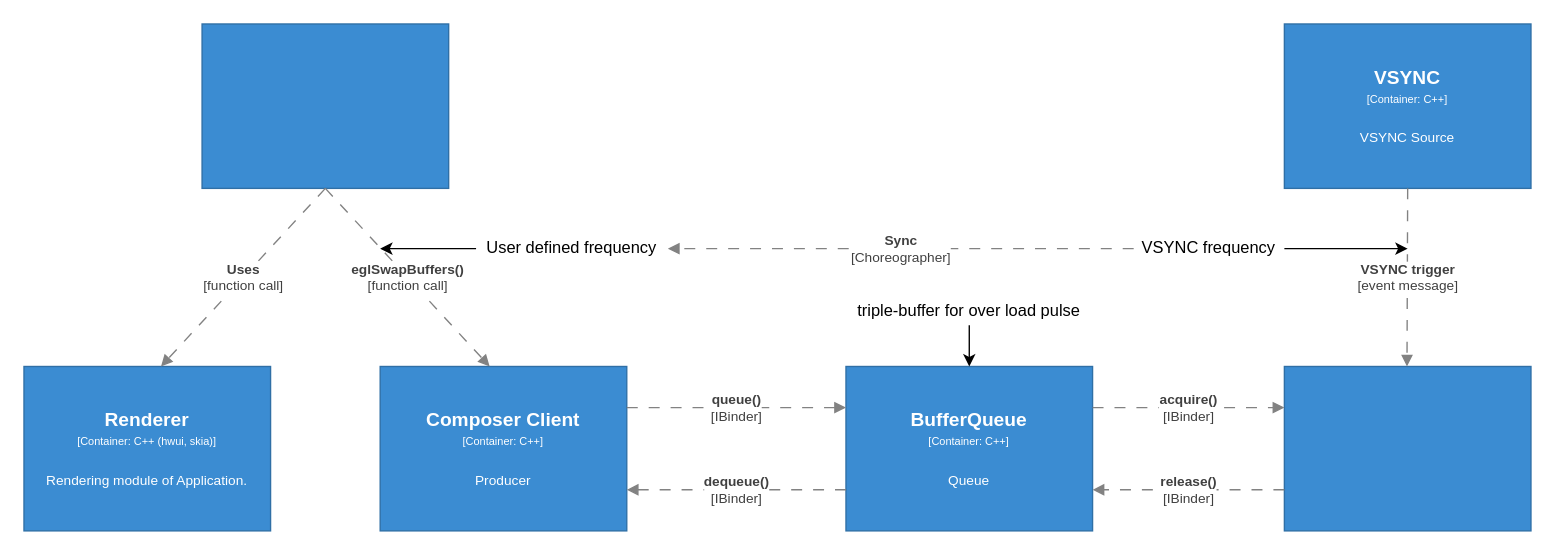
Image size: 1555x555. Some labels were removed from this diagram. Here are the shapes that lost their labels. From the top down, the box of each, then its label:
(201, 23, 449, 188): Logic and Algorithm [Container: JAVA, C++, Python] Application Logic Level.
(1283, 365, 1531, 531): SurfaceFlinger [Container: C++] Consumer
